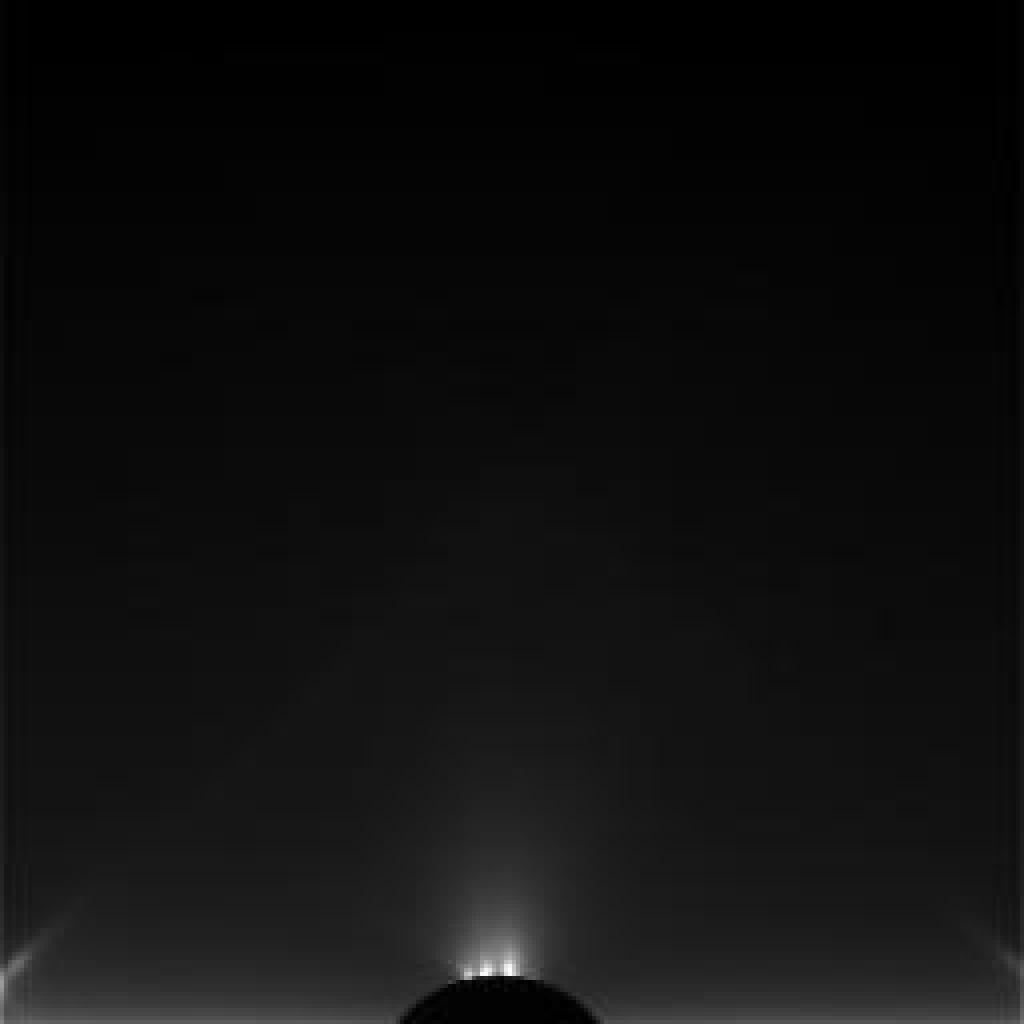plumes: (440, 885, 546, 980)
